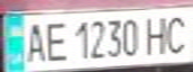0: (121, 16, 145, 56)
1: (69, 17, 90, 61)
2: (87, 17, 109, 60)
3: (106, 16, 127, 58)
A: (18, 18, 51, 64)
C: (160, 11, 193, 55)
E: (39, 18, 69, 63)
H: (142, 12, 175, 55)
